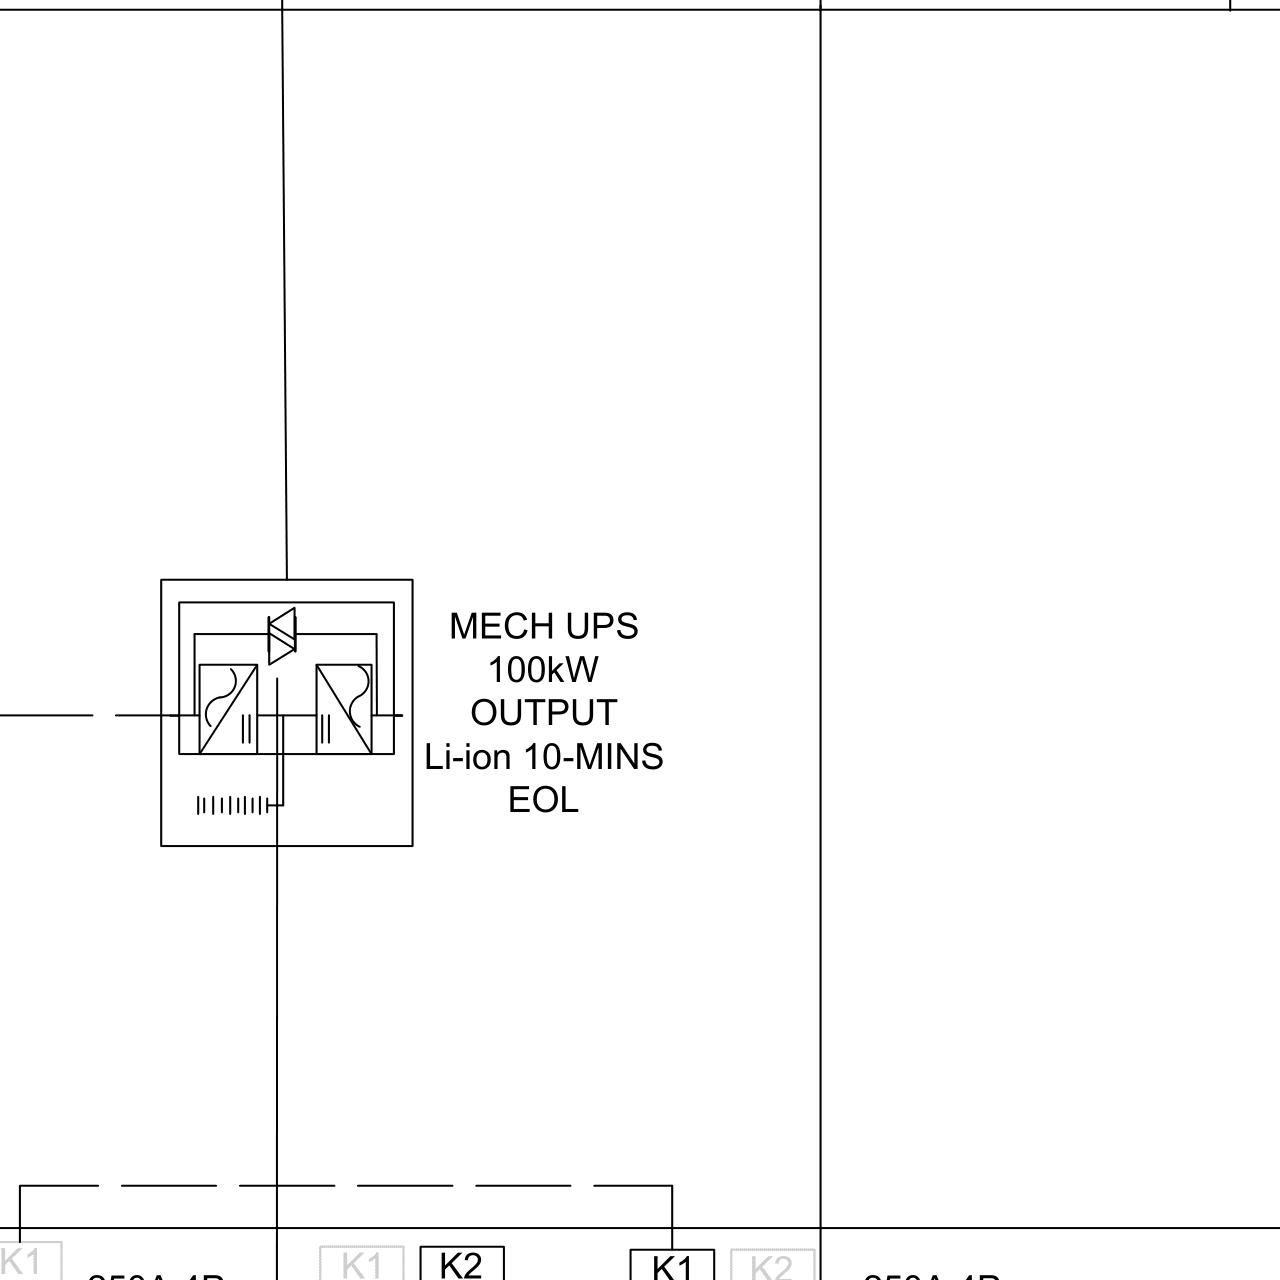UPS: (149, 566, 423, 856)
